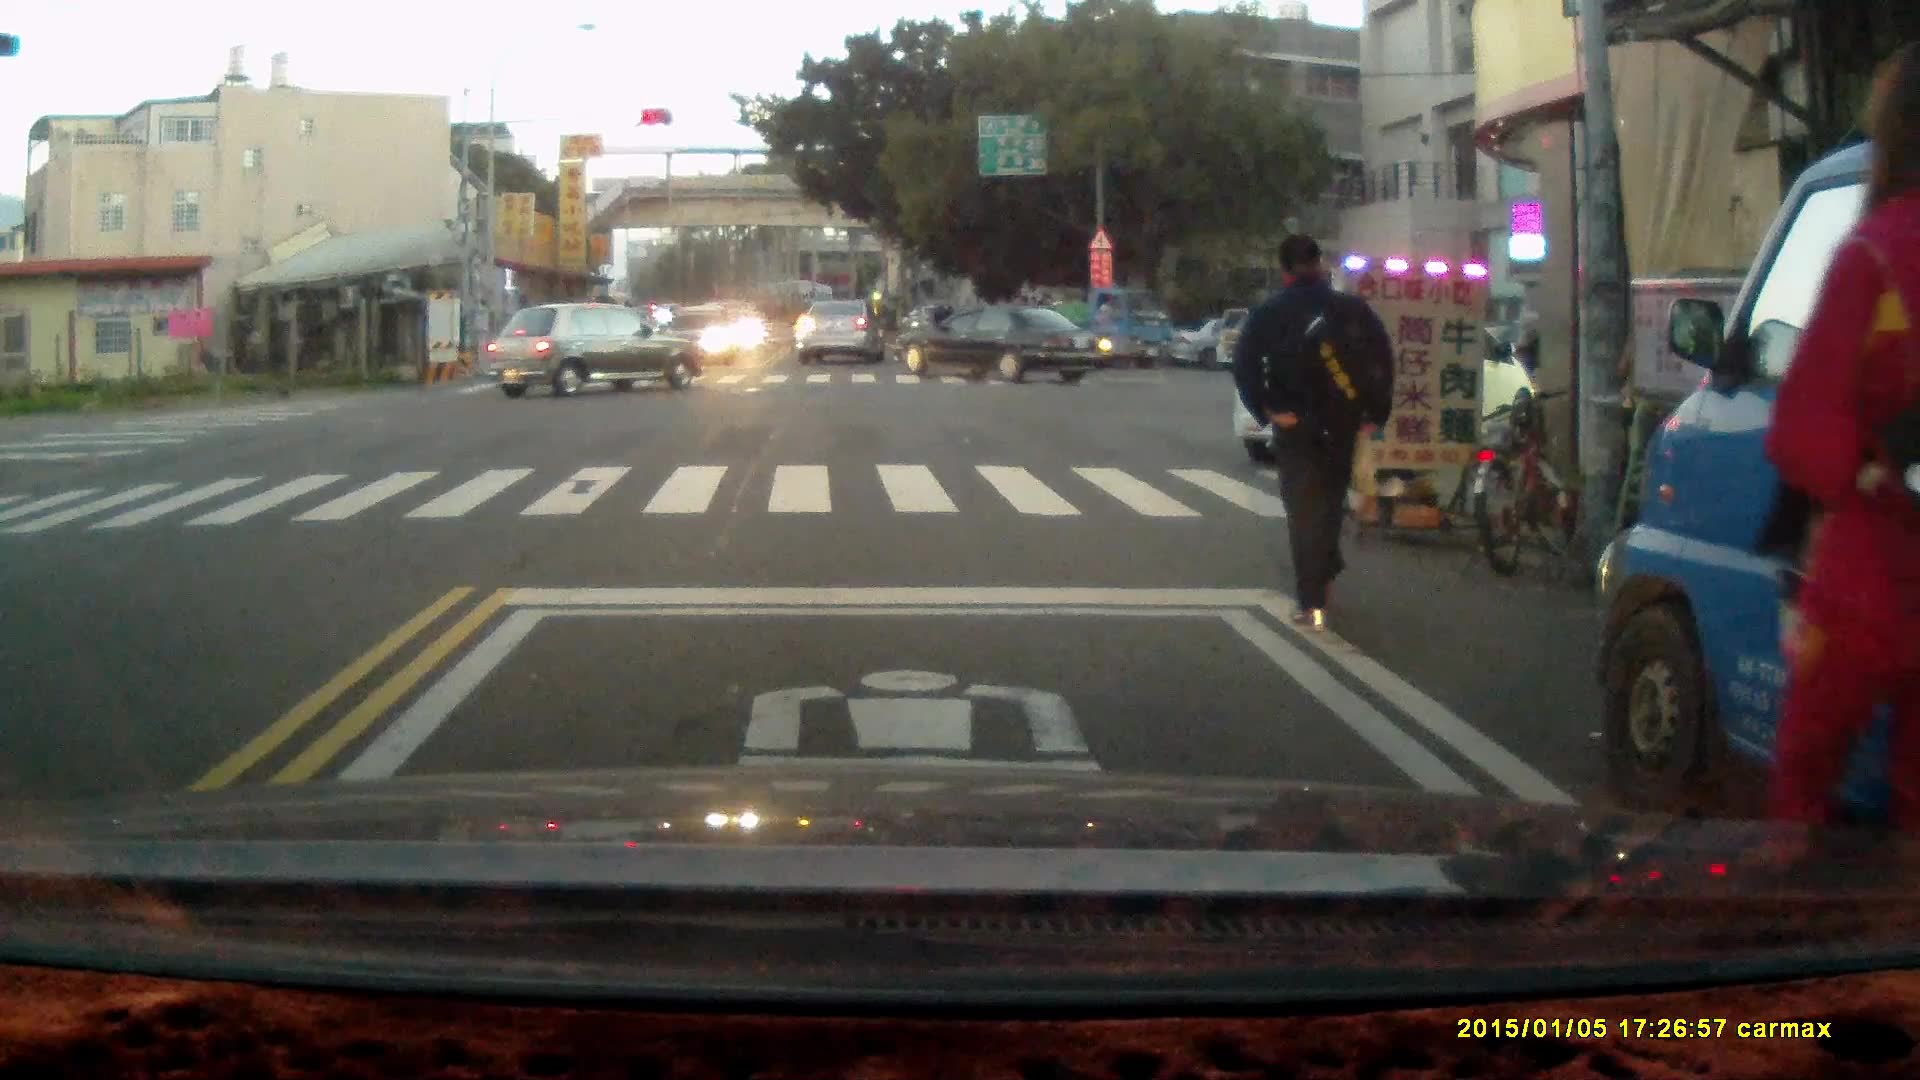pedestrian: (1757, 53, 1920, 862), (1229, 234, 1394, 641), (933, 293, 954, 355)
vehicle: (1598, 132, 1920, 852), (1233, 296, 1533, 459), (479, 305, 706, 401), (891, 303, 1117, 381), (1002, 284, 1175, 367), (800, 301, 886, 370)
